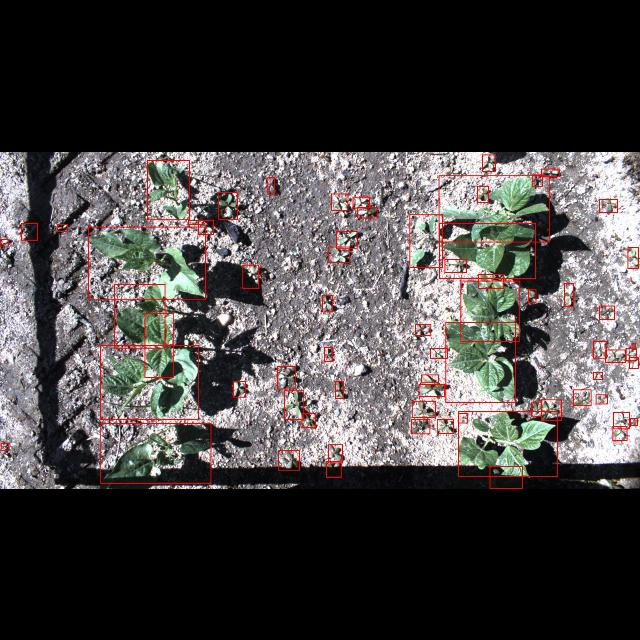crop: (88, 226, 205, 298), (439, 175, 549, 241), (100, 345, 198, 419), (101, 423, 211, 483), (458, 412, 558, 476), (446, 322, 516, 402), (439, 222, 535, 278), (461, 280, 519, 342), (115, 284, 165, 348), (147, 159, 189, 219), (145, 313, 173, 377), (490, 466, 522, 488)
weed: (410, 214, 442, 266), (284, 390, 304, 420), (218, 192, 238, 218), (278, 450, 300, 470), (541, 400, 561, 420), (277, 366, 295, 388), (243, 264, 259, 288), (412, 401, 436, 417), (337, 230, 358, 248), (478, 274, 504, 288), (328, 246, 349, 262), (410, 418, 430, 434), (419, 384, 445, 396), (444, 258, 466, 272), (21, 222, 37, 240), (436, 418, 454, 434), (332, 192, 348, 210), (573, 389, 591, 405), (598, 198, 618, 212), (198, 218, 214, 234), (326, 461, 342, 477), (613, 412, 629, 428), (328, 444, 342, 462), (564, 282, 574, 306), (605, 350, 625, 362), (482, 154, 496, 170), (628, 246, 638, 268), (594, 340, 606, 358), (357, 207, 377, 217), (302, 413, 316, 427), (600, 305, 614, 319), (613, 426, 627, 440), (353, 196, 369, 208), (478, 184, 488, 202), (430, 348, 448, 358), (233, 382, 245, 396), (322, 295, 332, 311), (415, 324, 431, 334), (336, 380, 344, 398), (541, 168, 559, 176), (532, 402, 542, 416), (422, 374, 438, 382), (323, 347, 332, 361), (626, 348, 636, 360), (596, 394, 608, 404), (528, 288, 536, 302), (532, 173, 542, 184), (268, 176, 274, 194), (458, 413, 468, 423), (630, 357, 638, 368), (57, 223, 67, 230), (0, 238, 8, 246), (188, 220, 204, 224), (1, 442, 9, 450), (593, 372, 603, 378), (630, 418, 638, 424), (632, 343, 636, 349)
